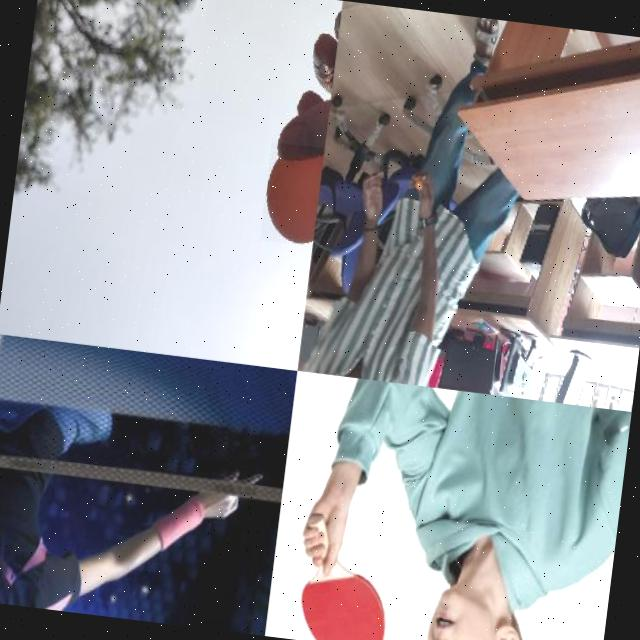ping-pong-ball: (260, 138, 324, 246), (413, 175, 423, 192)
